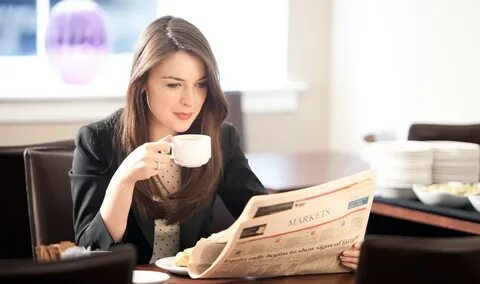awake: (67, 14, 265, 260)
